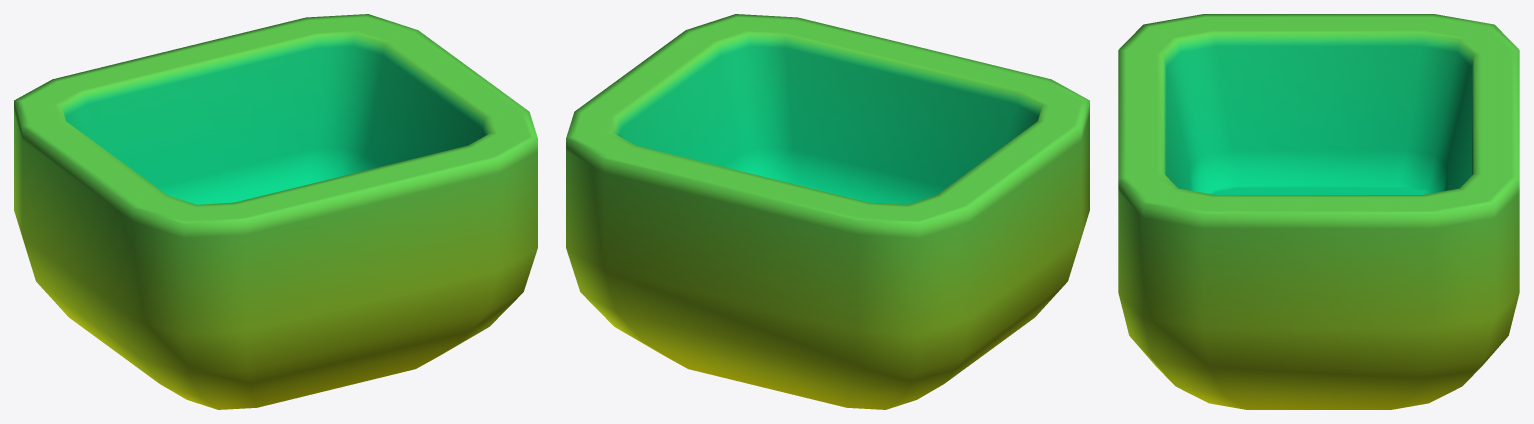
The model's file is basket_mesh.fbx.
3 renders of one model, left to right at view 1: azimuth 30°, elevation 25°; view 2: azimuth 150°, elevation 25°; view 3: azimuth 270°, elevation 25°, orthographic. The views are drawn at different scales.
Parts seen in each view (by area): view 1: Cube; view 2: Cube; view 3: Cube.
Part boxes in pixels (box(x1,y1,x2,y2)): Cube: box(14, 14, 537, 409); Cube: box(566, 14, 1089, 409); Cube: box(1118, 14, 1519, 409).
Bounding box in the file's own units: 268 × 146 × 227.
1 material, 1 textured.
